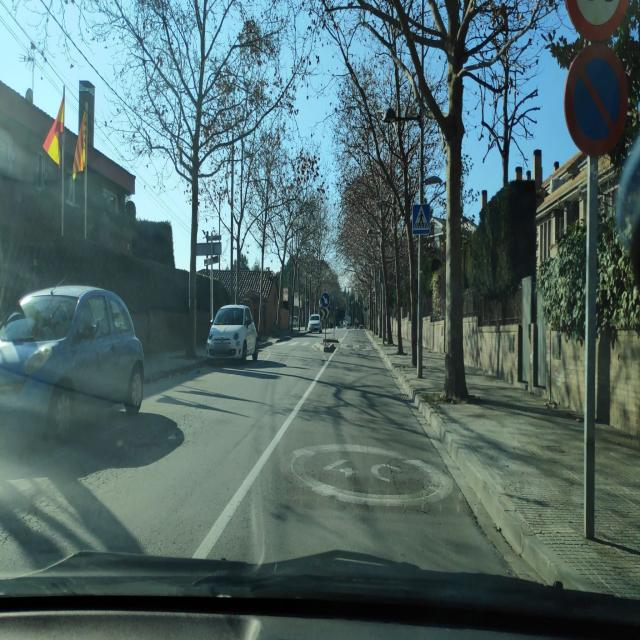forb_stopping: (561, 46, 631, 162)
